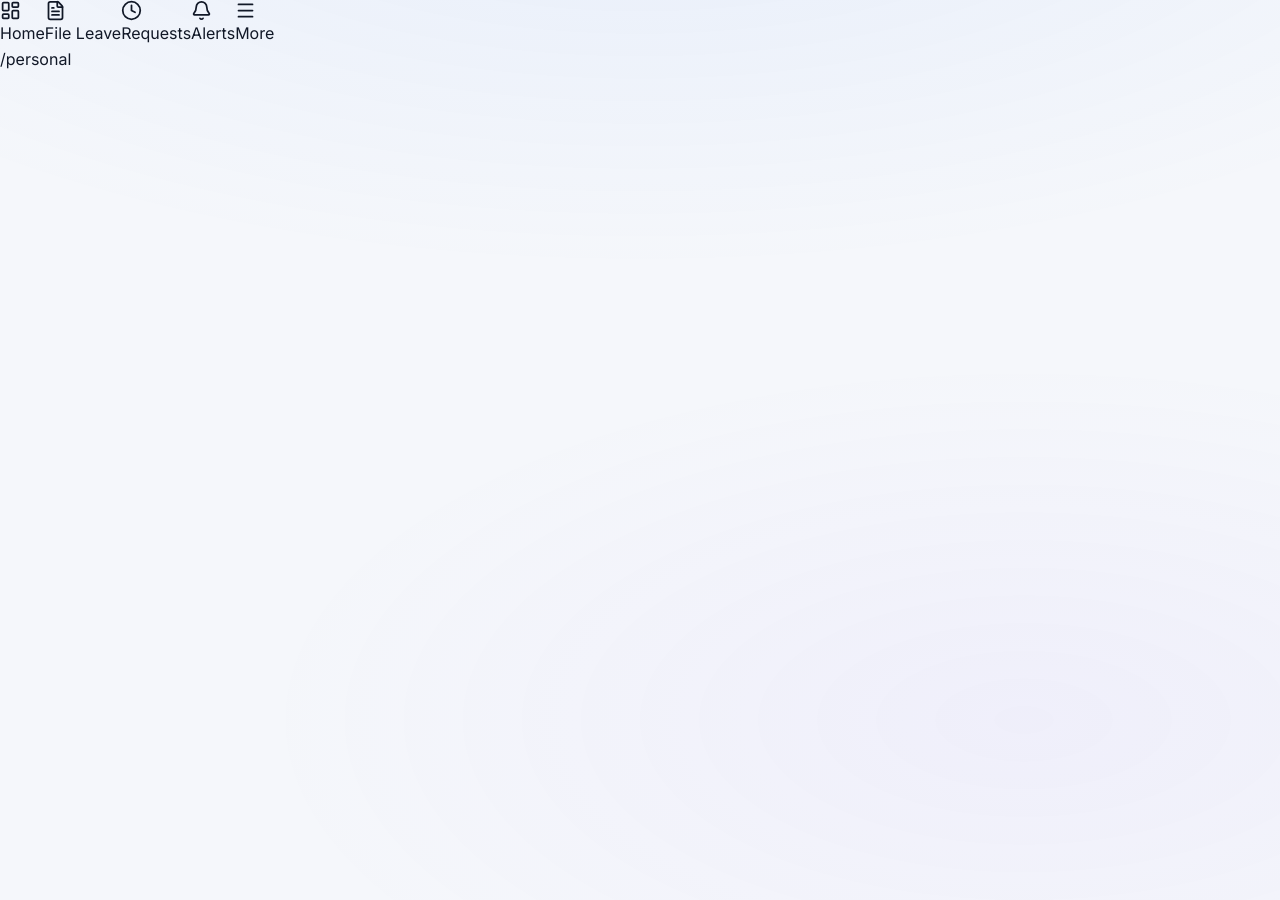
mobile workspace navigation › keeps unauthorized HR and system destinations out of the drawer
Click the button with aria-label "More navigation": x=255, y=23 x1=235 y1=0 x2=274 y2=47
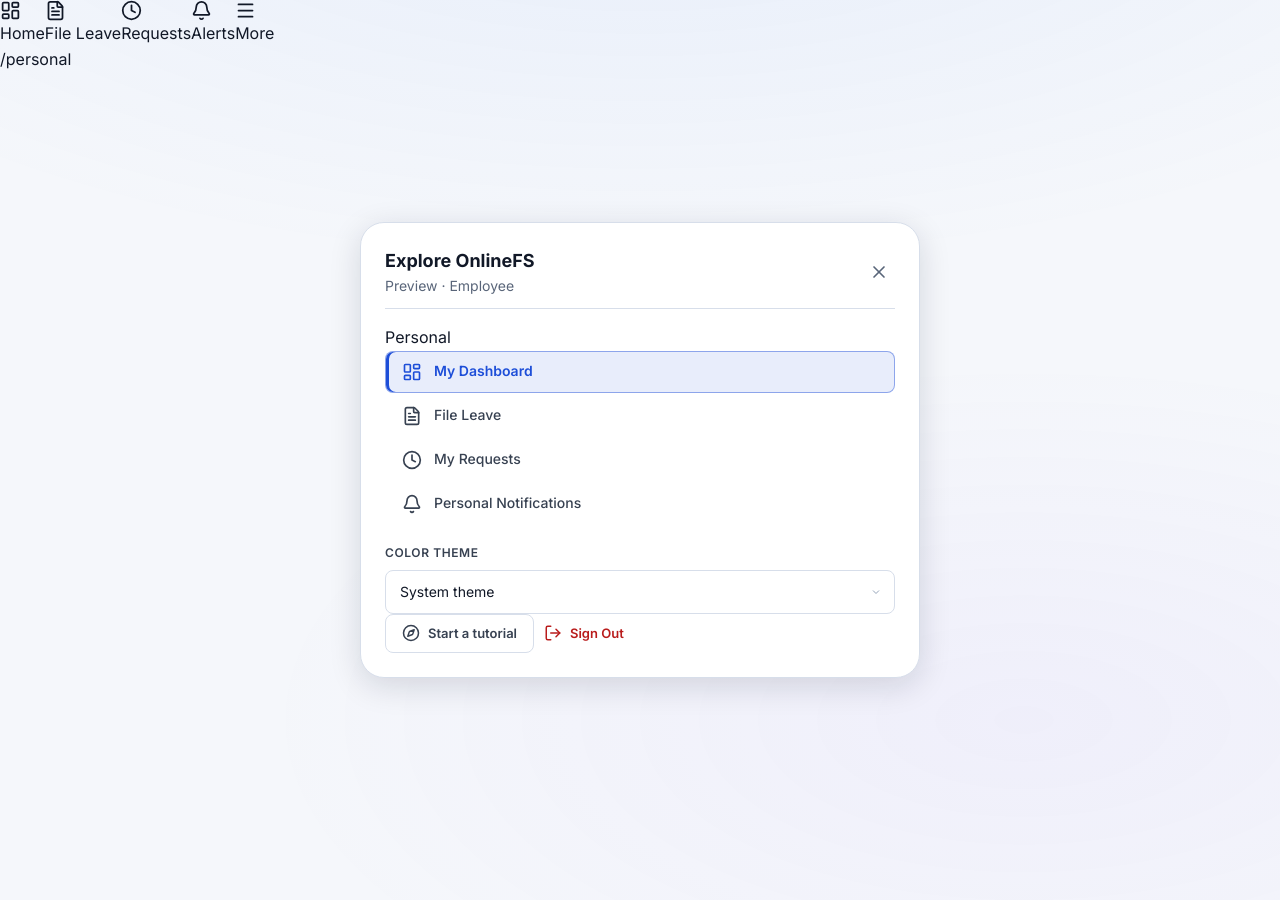
Expected: the button "My Requests" is shown
Click the button "My Requests": x=477, y=459 x1=385 y1=438 x2=895 y2=480
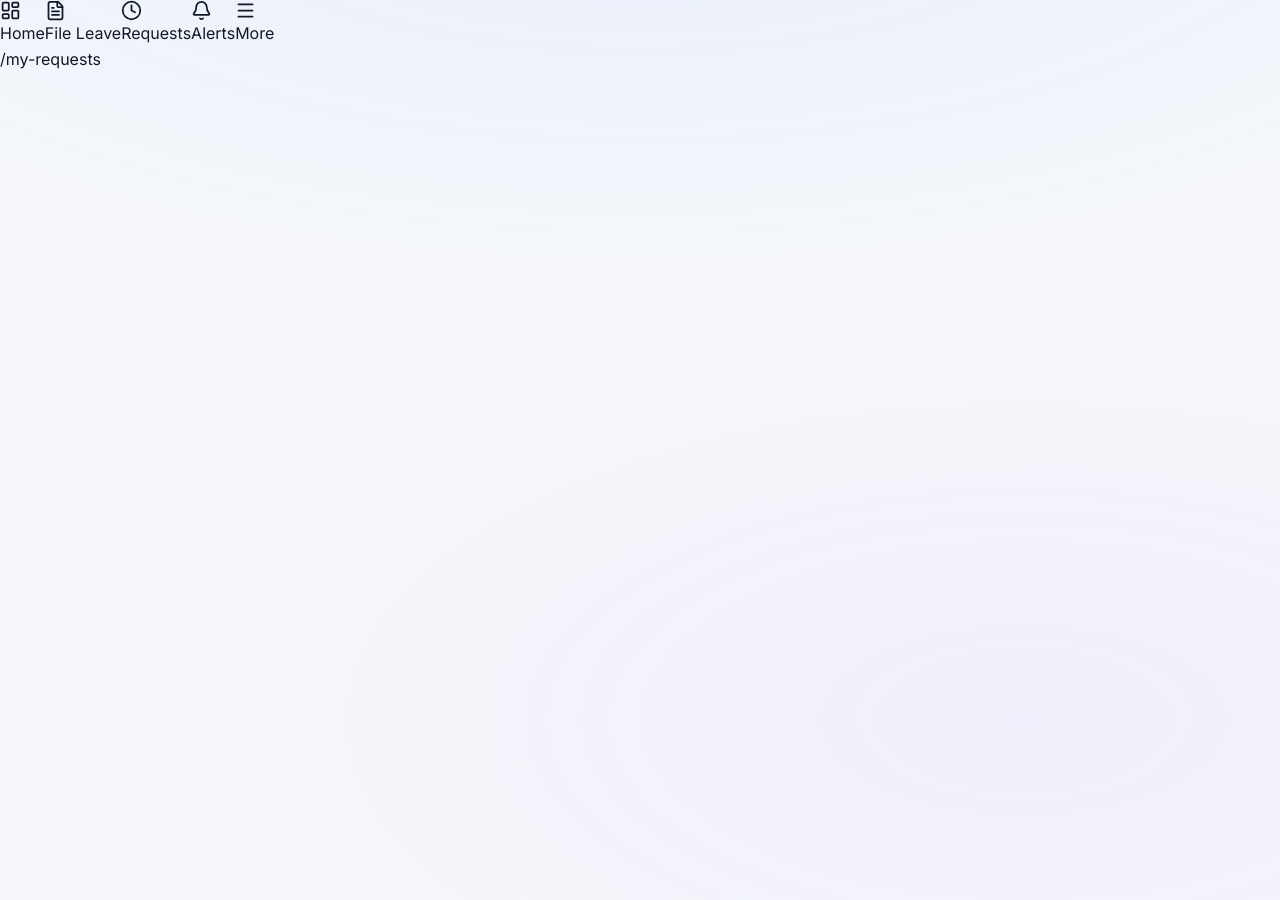
Expected: the text with test id "route" reads "/my-requests", x1=0 y1=49 x2=101 y2=69
Expected: the dialog is gone
